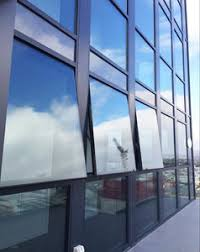glass panel: (1, 40, 85, 183), (0, 187, 66, 251), (90, 80, 134, 173), (15, 4, 74, 60), (85, 178, 126, 251), (90, 0, 126, 68), (136, 102, 162, 168), (28, 0, 75, 31), (135, 173, 157, 236), (90, 52, 126, 88), (135, 33, 154, 89), (135, 0, 153, 43), (159, 7, 171, 64), (161, 114, 174, 166), (161, 170, 175, 217), (160, 59, 172, 102), (177, 122, 187, 164), (135, 83, 154, 105), (174, 32, 183, 78), (178, 168, 188, 206), (175, 77, 184, 110), (172, 0, 181, 28), (160, 100, 173, 115), (115, 0, 127, 12), (176, 110, 185, 121), (164, 0, 169, 7)
